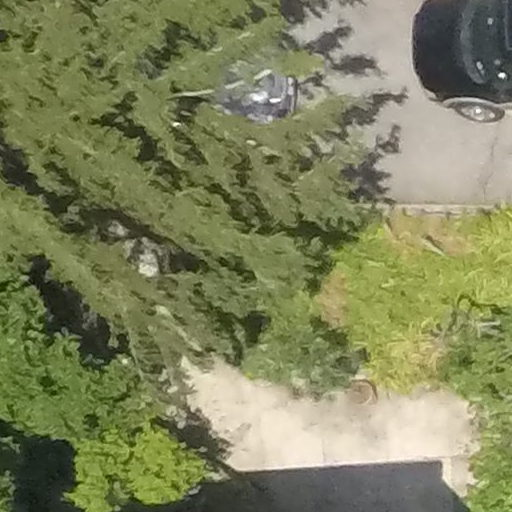flower pot: (345, 377, 378, 414)
